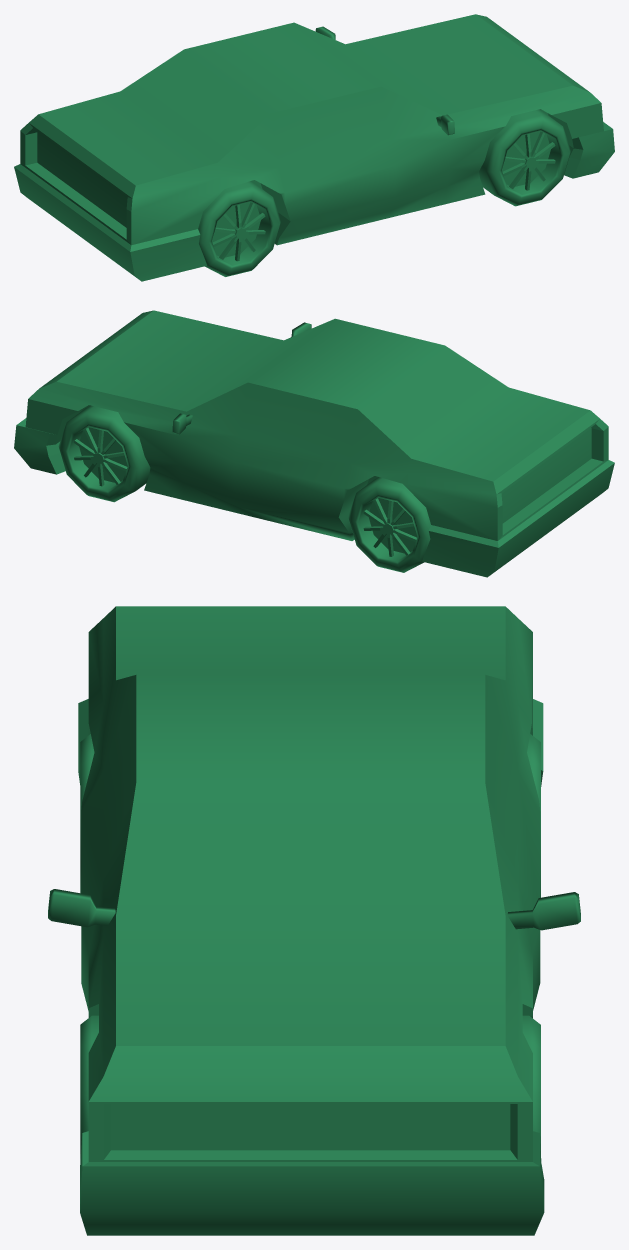
The model's file is broken_car.fbx.
The picture shows the model from 3 angles, top to bottom: view 1: azimuth 30°, elevation 25°; view 2: azimuth 150°, elevation 25°; view 3: azimuth 270°, elevation 25°; orthographic projection. The views are drawn at different scales.
Parts seen in each view (by area): view 1: polySurface88; view 2: polySurface88; view 3: polySurface88.
Part boxes in pixels (x1,y1,x2,y2): polySurface88: [14, 14, 614, 281]; polySurface88: [14, 310, 614, 577]; polySurface88: [48, 606, 580, 1235].
Size of the model in its own units: 5.14 by 1.44 by 2.45.
